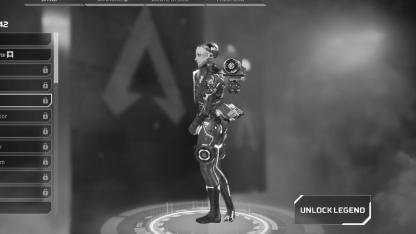Target: (189, 40, 238, 188)
